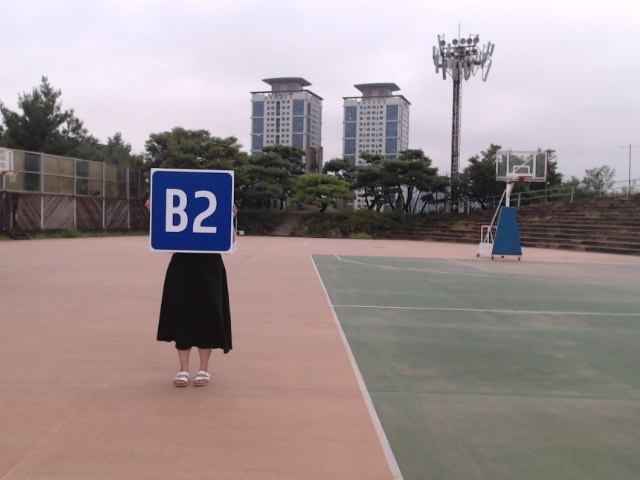delivery_b2: (151, 170, 233, 253)
